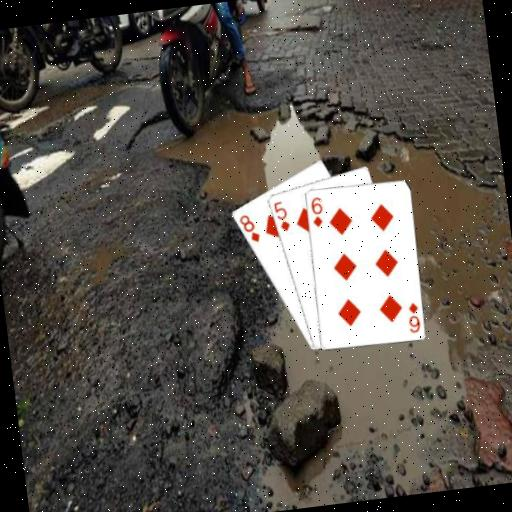5D: (270, 197, 292, 234)
6D: (307, 193, 326, 230), (404, 300, 423, 335)
8D: (236, 210, 262, 246)
